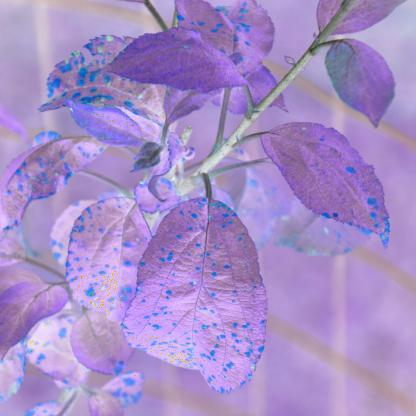Apple rust leaf: (120, 186, 280, 410), (254, 116, 399, 258), (70, 184, 161, 351), (37, 35, 172, 137), (2, 130, 107, 227), (170, 0, 284, 87)
